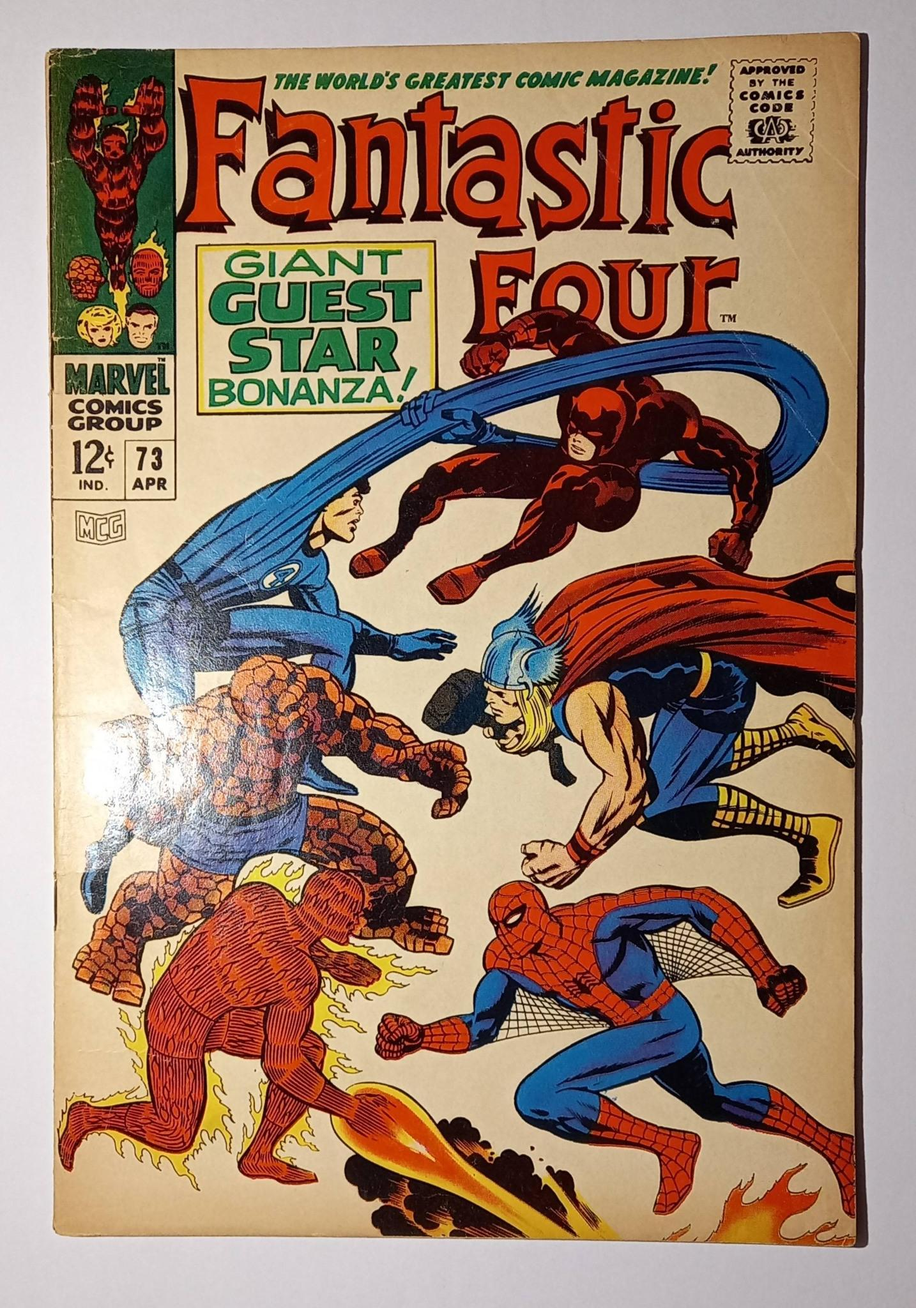comic: (48, 35, 864, 1248)
